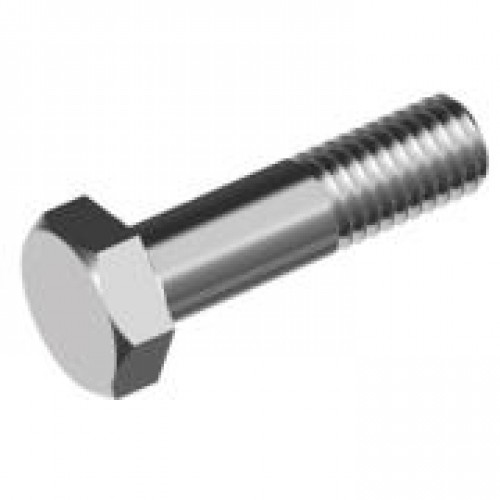screw: (21, 91, 489, 399)
